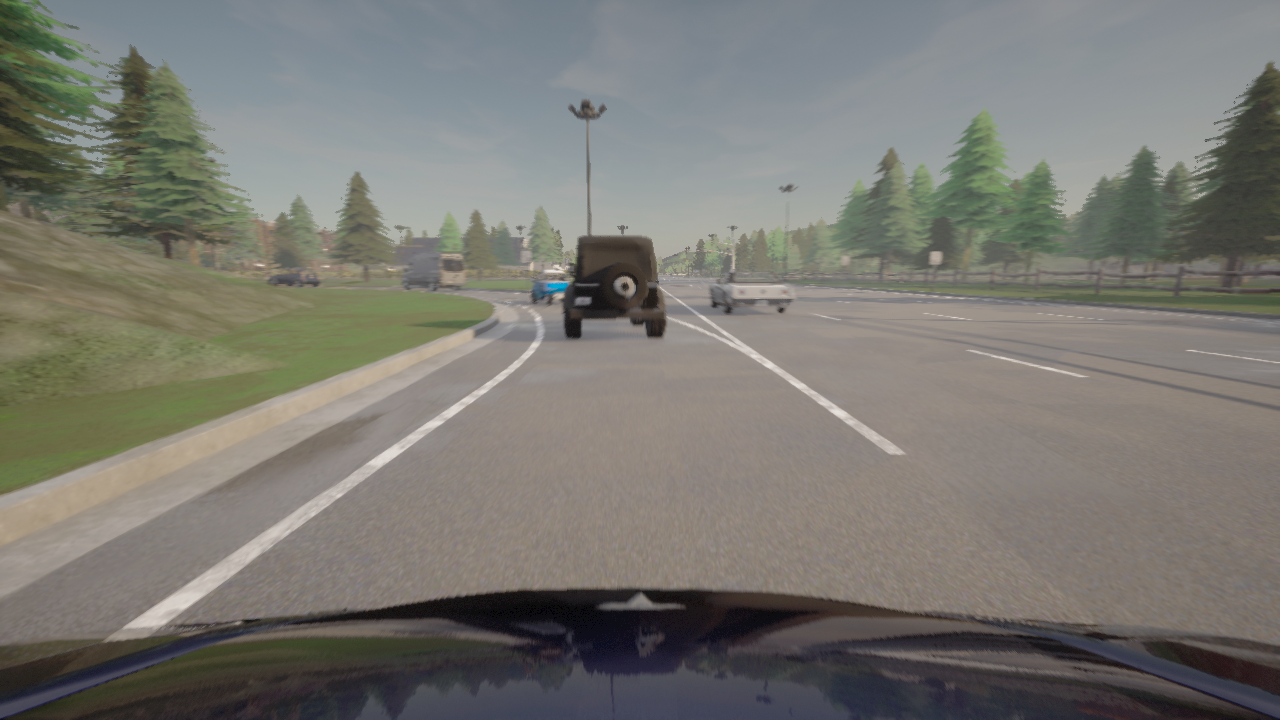cyclist: (0, 588, 1279, 719), (563, 236, 665, 338), (710, 271, 794, 313), (401, 252, 466, 291), (531, 269, 568, 304)
